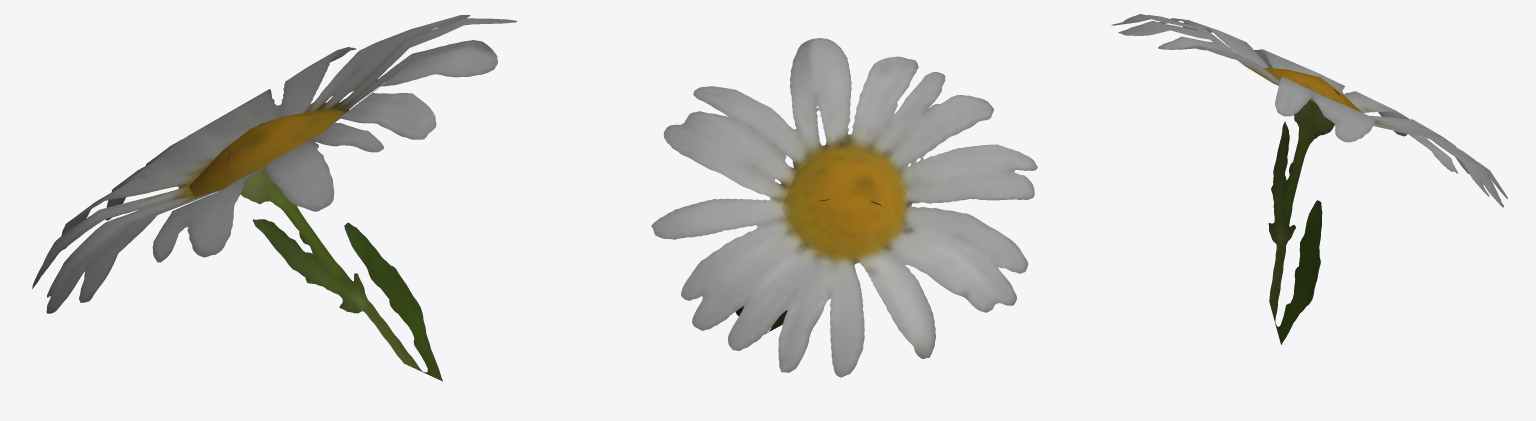
3 renders of one model, left to right at view 1: azimuth 30°, elevation 25°; view 2: azimuth 150°, elevation 25°; view 3: azimuth 270°, elevation 25°, orthographic. The views are drawn at different scales.
Visible parts, largest first — view 1: 0a0f5b4e; view 2: 0a0f5b4e; view 3: 0a0f5b4e.
Part boxes in pixels (x1=…): 0a0f5b4e: x1=32, y1=14, x2=516, y2=381; 0a0f5b4e: x1=651, y1=38, x2=1037, y2=377; 0a0f5b4e: x1=1111, y1=14, x2=1507, y2=344.
Size of the model in its own units: 0.0902 by 0.0737 by 0.0854.
Materials: 1 (1 with a texture image).
